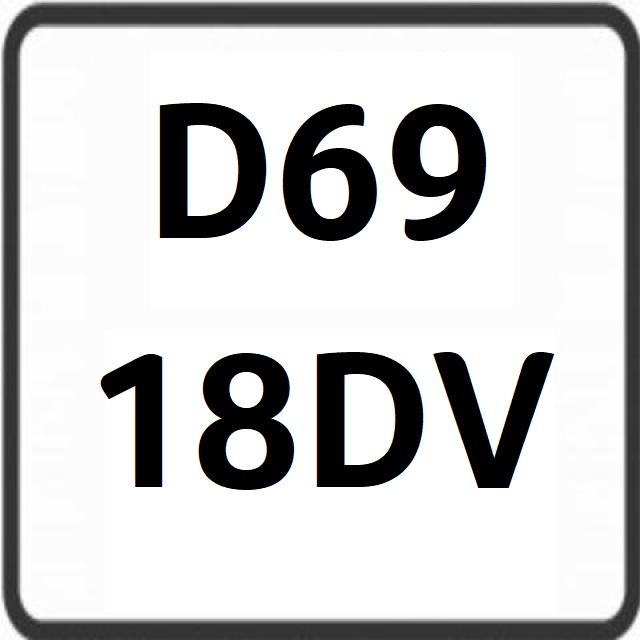1: (97, 332, 175, 504)
8: (196, 332, 295, 500)
9: (388, 92, 494, 260)
D: (150, 90, 270, 260), (308, 344, 424, 510)
V: (426, 334, 556, 522)
